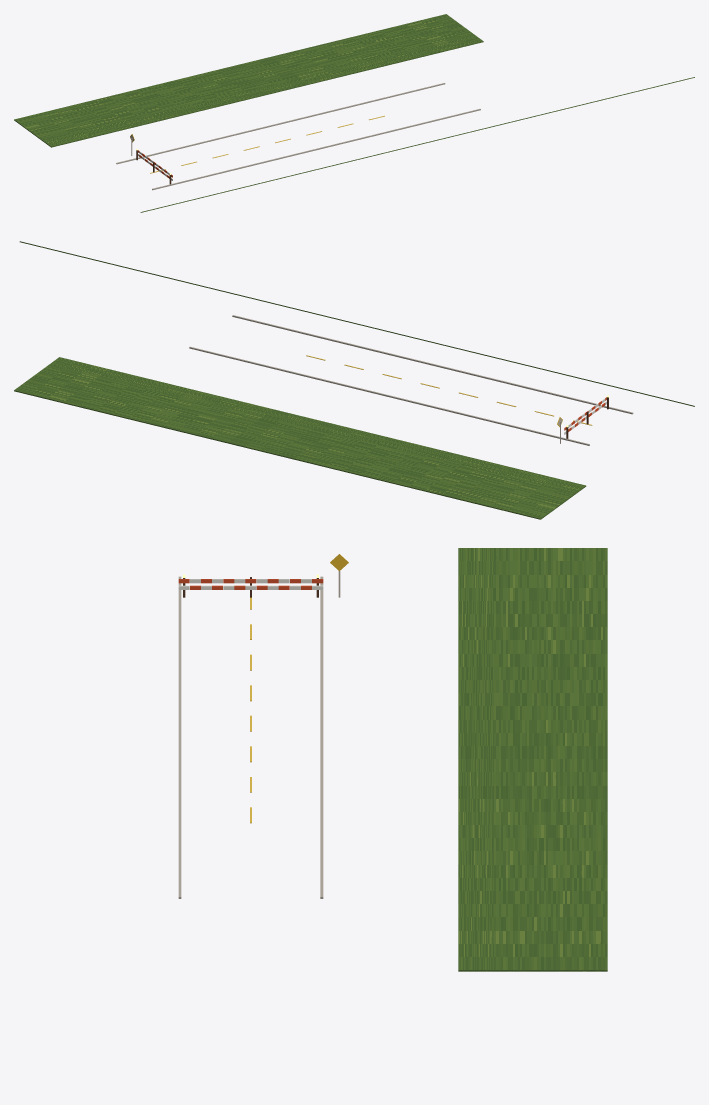
Rendered from structure.glb.
The picture shows the model from 3 angles, top to bottom: view 1: azimuth 30°, elevation 25°; view 2: azimuth 150°, elevation 25°; view 3: azimuth 270°, elevation 25°; orthographic projection. The views are drawn at different scales.
Parts seen in each view (by area): view 1: Box3, Box1, Box2, Box13, Box12; view 2: Box3, Box1, Box2, Box12, Box13; view 3: Box3, Box1, Box12, Box13.
Part boxes in pixels (bbox=[...]): Box3: bbox=[14, 14, 474, 140]; Box1: bbox=[42, 35, 483, 147]; Box2: bbox=[140, 77, 694, 212]; Box13: bbox=[152, 109, 480, 190]; Box12: bbox=[116, 83, 445, 164]; Box3: bbox=[14, 365, 575, 519]; Box1: bbox=[49, 357, 586, 494]; Box2: bbox=[19, 241, 694, 406]; Box12: bbox=[189, 346, 589, 445]; Box13: bbox=[232, 315, 633, 414]; Box3: bbox=[494, 548, 607, 971]; Box1: bbox=[458, 548, 493, 971]; Box12: bbox=[320, 576, 323, 898]; Box13: bbox=[178, 576, 181, 898].
Size of the model in its own units: 70.89 by 2.81 by 28.04.
Materials: 9 (1 with a texture image).
